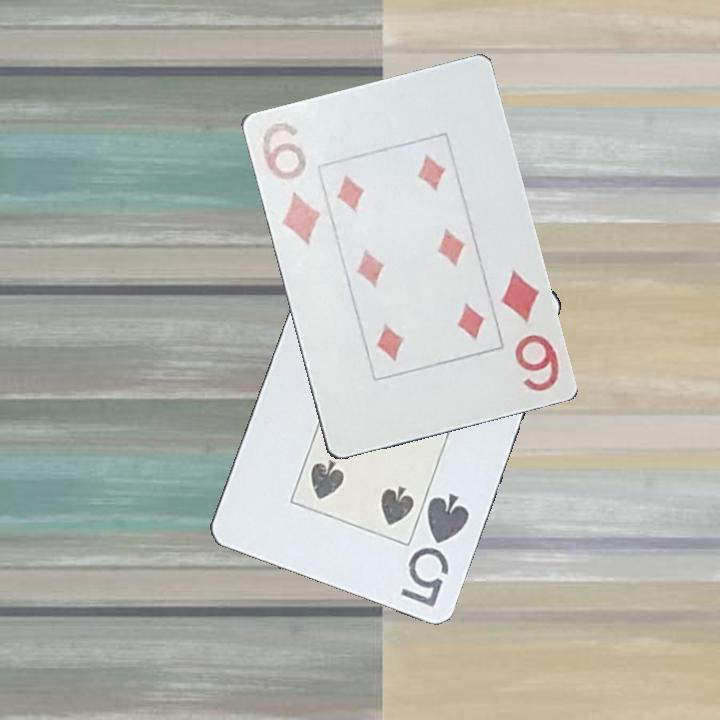5s: (397, 488, 472, 610)
6d: (257, 116, 323, 248), (496, 266, 562, 395)
